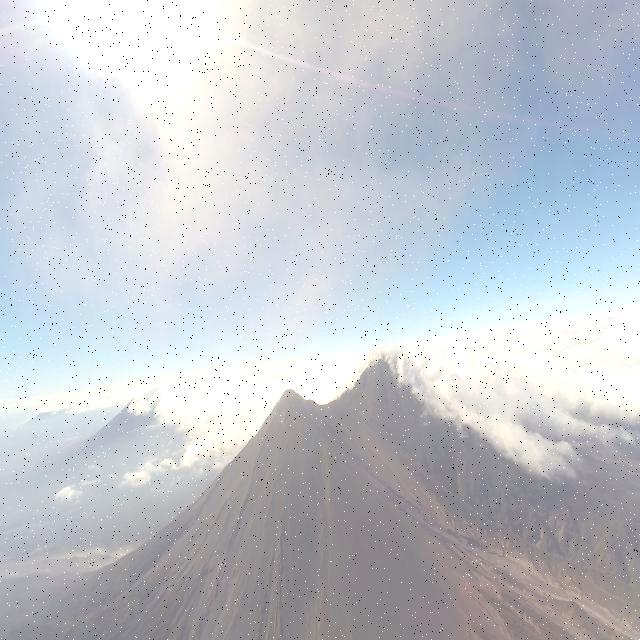Plume: (56, 1, 528, 310)
Summit: (262, 386, 318, 426)
